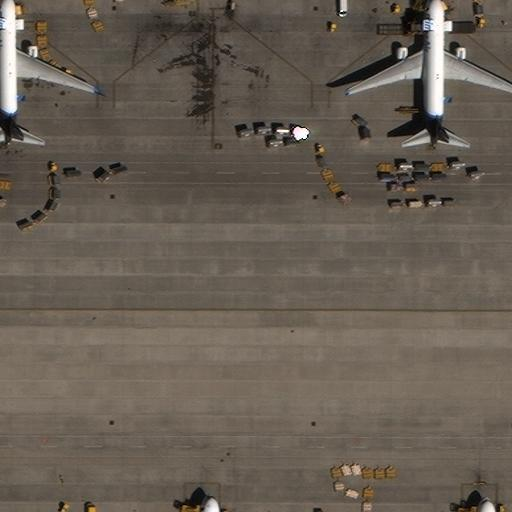Large Civil Transport: (346, 0, 512, 149), (0, 0, 97, 147)
